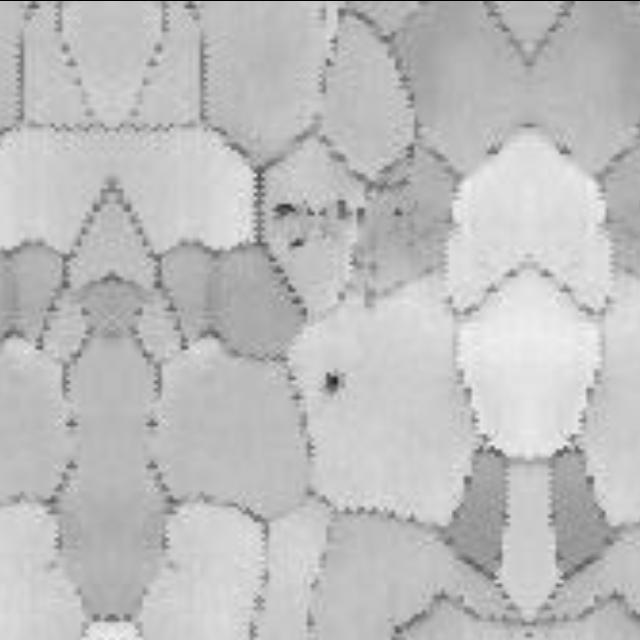good_void: (270, 200, 298, 222), (324, 368, 348, 393), (334, 198, 352, 224), (289, 236, 305, 248), (392, 205, 404, 216), (304, 206, 317, 216)
